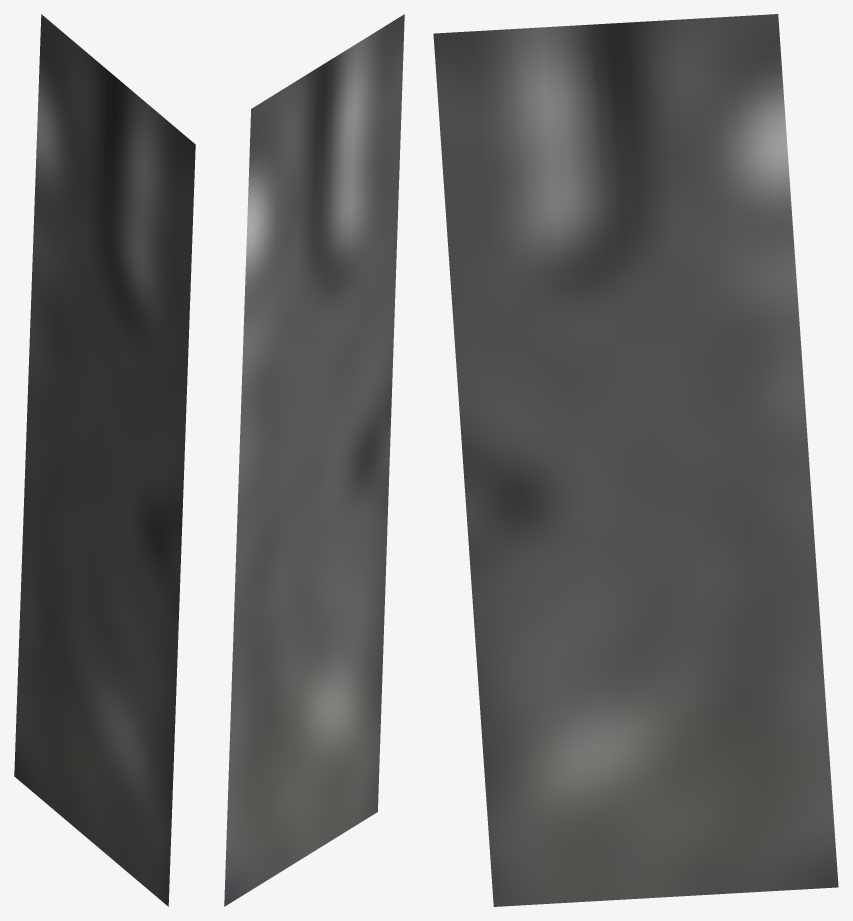
File: Shotgun_PSX_Intake.fbx
The picture shows the model from 3 angles, left to right: view 1: azimuth 30°, elevation 25°; view 2: azimuth 150°, elevation 25°; view 3: azimuth 270°, elevation 25°; orthographic projection. The views are drawn at different scales.
Parts seen in each view (by area): view 1: EjectPort; view 2: EjectPort; view 3: EjectPort.
Boxes of the visible parts, bbox=[...] form: EjectPort: bbox=[14, 14, 195, 906]; EjectPort: bbox=[224, 14, 404, 906]; EjectPort: bbox=[433, 14, 838, 906].
Bounding box in the file's own units: 0 × 75.95 × 31.23.
